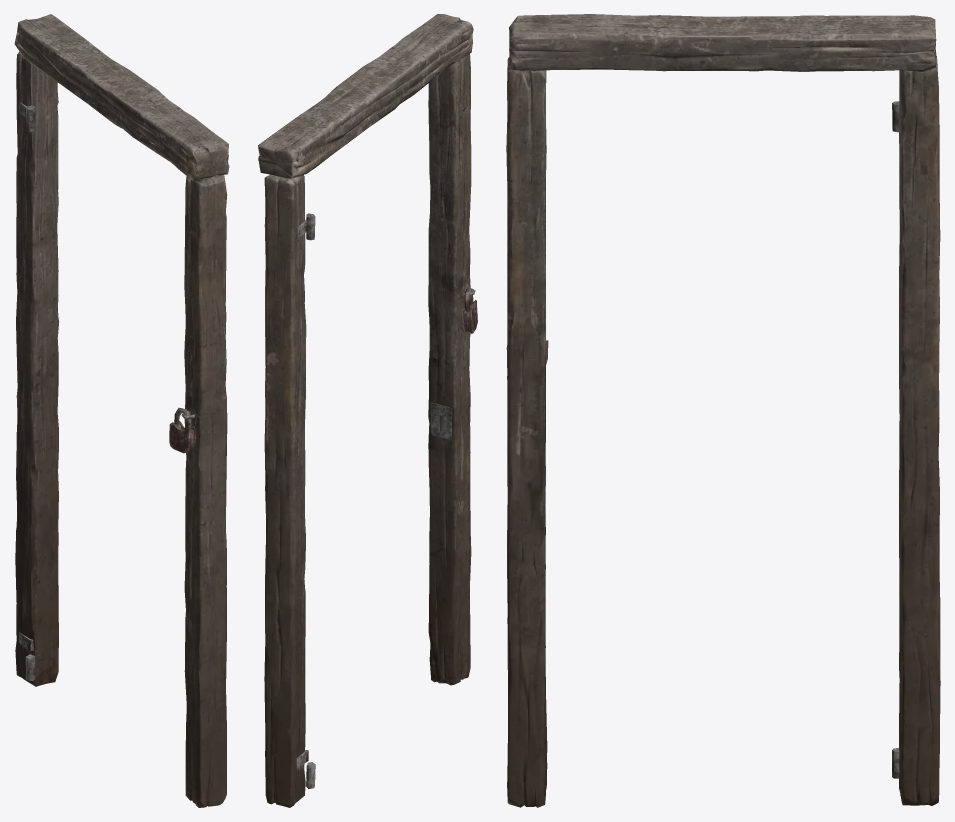
The model's file is door_frame.glb.
3 views of the same model, side by side, from view 1: azimuth 30°, elevation 25°; view 2: azimuth 150°, elevation 25°; view 3: azimuth 270°, elevation 25° (orthographic). The views are drawn at different scales.
Visible parts, largest first — view 1: StaticMeshActor_144_StaticMeshComponent0; view 2: StaticMeshActor_144_StaticMeshComponent0; view 3: StaticMeshActor_144_StaticMeshComponent0.
Part boxes in pixels (<box>): StaticMeshActor_144_StaticMeshComponent0: <box>14,14,229,807</box>; StaticMeshActor_144_StaticMeshComponent0: <box>258,14,477,807</box>; StaticMeshActor_144_StaticMeshComponent0: <box>506,14,940,807</box>.
Bounding box in the file's own units: 0.1751 × 2.21 × 1.12.
Materials: 1 (1 with a texture image).
